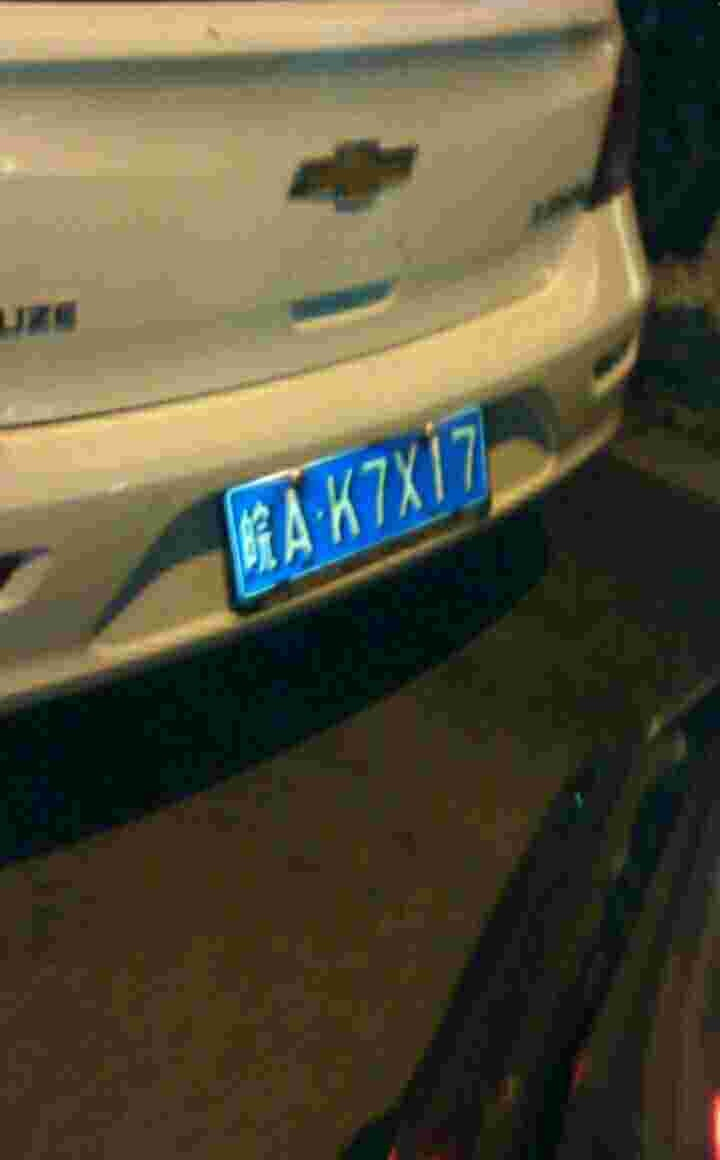license_plate: (240, 413, 492, 592)
